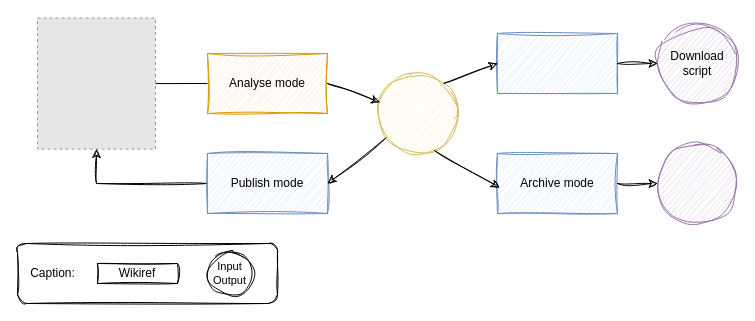
This 755x321 diagram has some shape labels left out. Grey dashed boxes stand in for pictures. The shapes that lost their labels are listed below. From the top down, each one's centre as x and y in pixels, then its label:
the point at 557,63: Script mode
the point at 417,113: output;json
the point at 697,183: Archive.org
